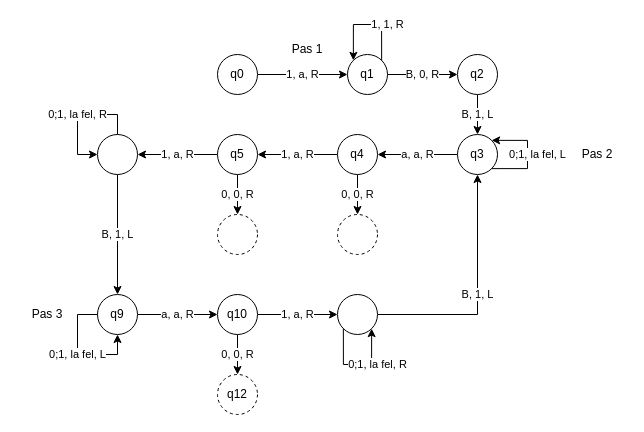
This 644x432 diagram has some shape labels left out. The shapes that lost their labels are listed below. From the top down, each one's centre as x and y in pixels, then its label:
At point 117,154: "q7".
At point 237,234: "q8".
At point 357,234: "q6".
At point 357,314: "q11".
